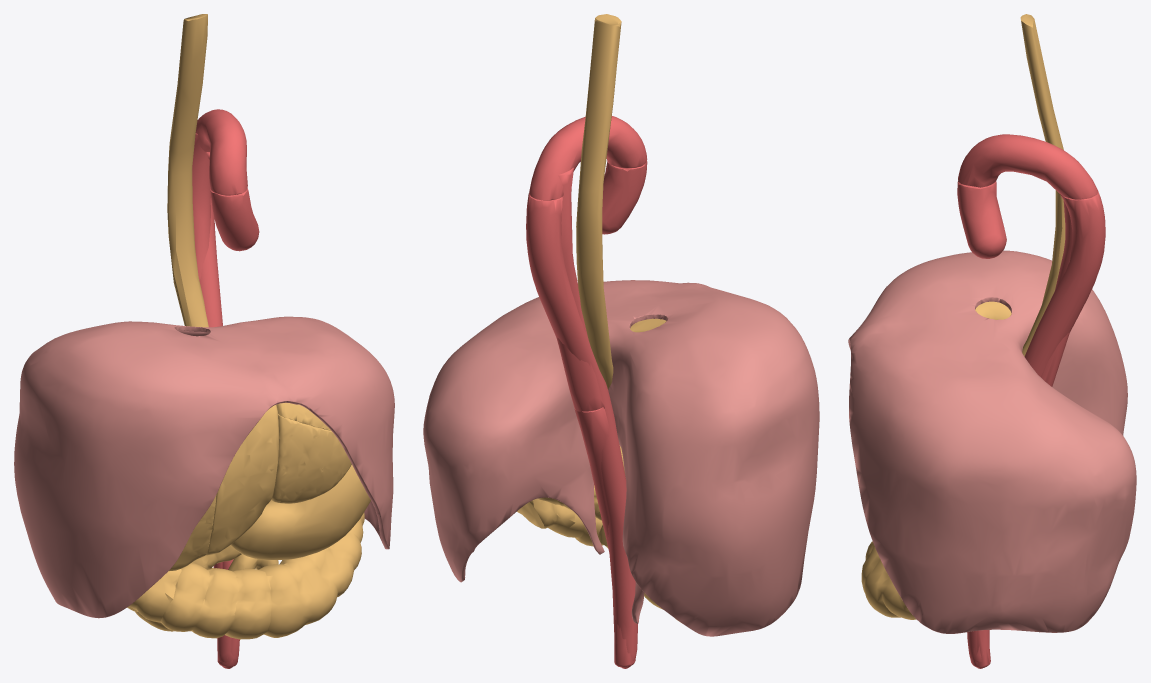
Rendered from epigastrio.glb.
The picture shows the model from 3 angles, left to right: view 1: azimuth 30°, elevation 25°; view 2: azimuth 150°, elevation 25°; view 3: azimuth 270°, elevation 25°; orthographic projection. The views are drawn at different scales.
Visible parts, largest first — view 1: diafragma, colon-transverso, figado, aorta, esofago, estomago, duodeno; view 2: diafragma, aorta, esofago, colon-transverso; view 3: diafragma, aorta, esofago, colon-transverso, figado.
Part boxes in pixels (box(x1,y1,x2,y2)): diafragma: box(14, 316, 394, 618); colon-transverso: box(127, 513, 364, 639); figado: box(168, 402, 351, 571); aorta: box(192, 109, 259, 668); esofago: box(167, 14, 208, 327); estomago: box(230, 465, 370, 559); duodeno: box(135, 554, 278, 631); diafragma: box(423, 280, 819, 636); aorta: box(526, 116, 647, 668); esofago: box(576, 14, 621, 389); colon-transverso: box(517, 498, 608, 548); diafragma: box(848, 250, 1136, 633); aorta: box(957, 134, 1105, 668); esofago: box(1020, 14, 1065, 356); colon-transverso: box(861, 541, 916, 619); figado: box(975, 301, 1011, 319).
Size of the model in its own units: 0.2432 by 0.4436 by 0.1794.
